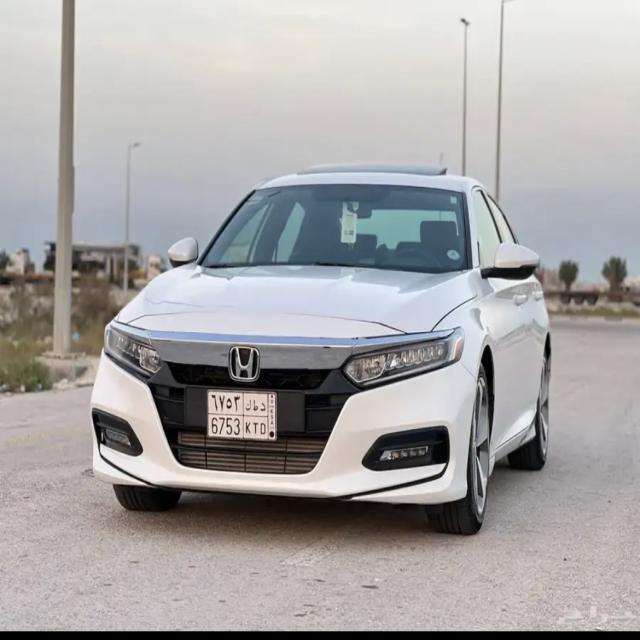license_plate: (209, 390, 281, 446)
